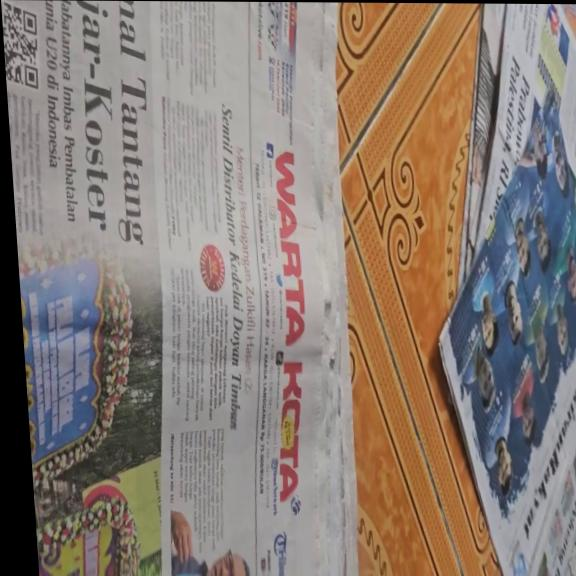Kertas: (3, 3, 365, 567), (427, 211, 576, 572)
